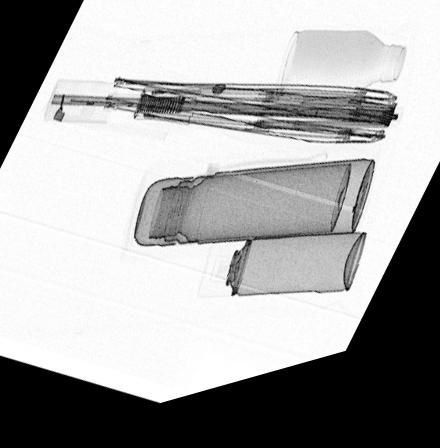Sprayer: (196, 252, 367, 310)
